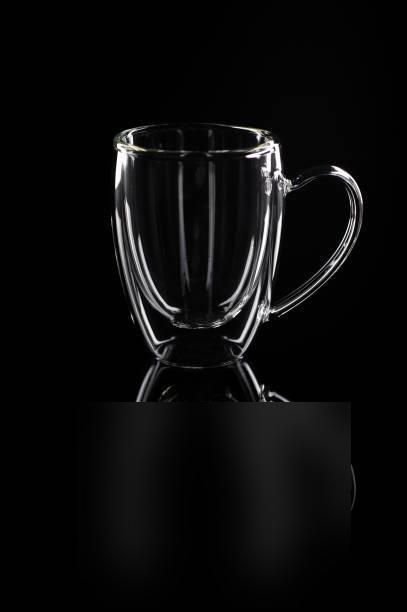glass-mug: (106, 116, 367, 375)
